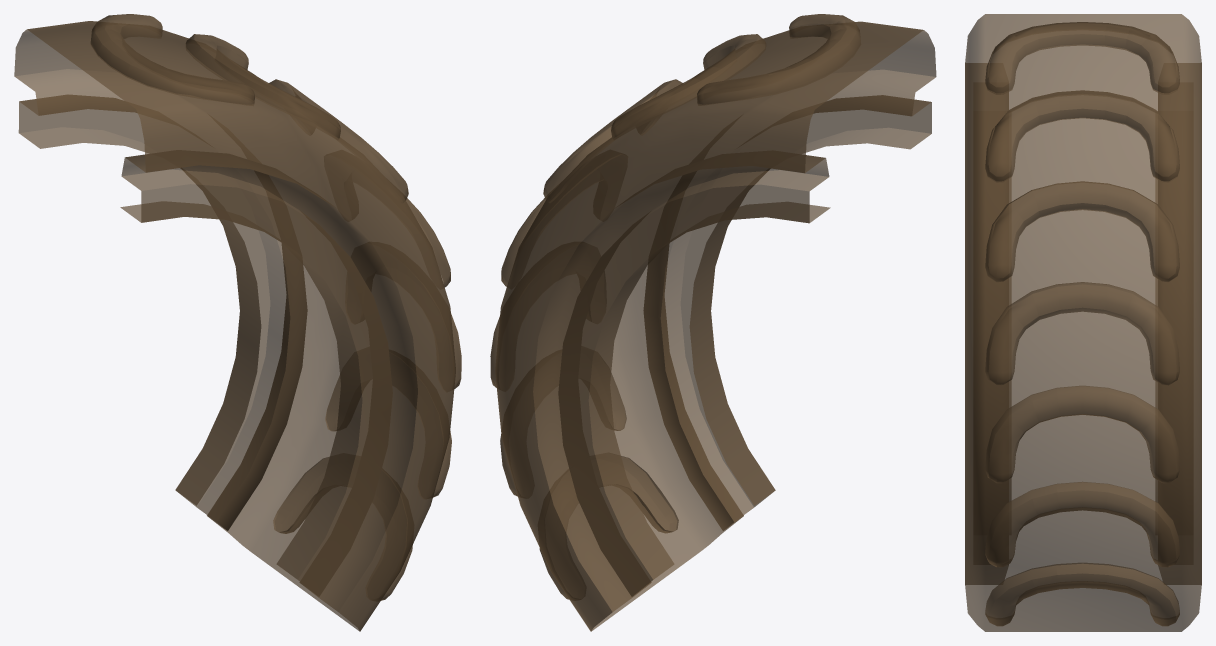
Rendered from MouseWheel_MouseTrans_0.obj.
The picture shows the model from 3 angles, left to right: view 1: azimuth 30°, elevation 25°; view 2: azimuth 150°, elevation 25°; view 3: azimuth 270°, elevation 25°; orthographic projection. The views are drawn at different scales.
Parts seen in each view (by area): view 1: MouseWheel_MouseTrans_0; view 2: MouseWheel_MouseTrans_0; view 3: MouseWheel_MouseTrans_0.
Part boxes in pixels (box(x1,y1,x2,y2)): MouseWheel_MouseTrans_0: box(14, 14, 461, 631); MouseWheel_MouseTrans_0: box(490, 14, 936, 631); MouseWheel_MouseTrans_0: box(965, 14, 1201, 631).
Bounding box in the file's own units: 0.00796 × 0.0134 × 0.00545.
